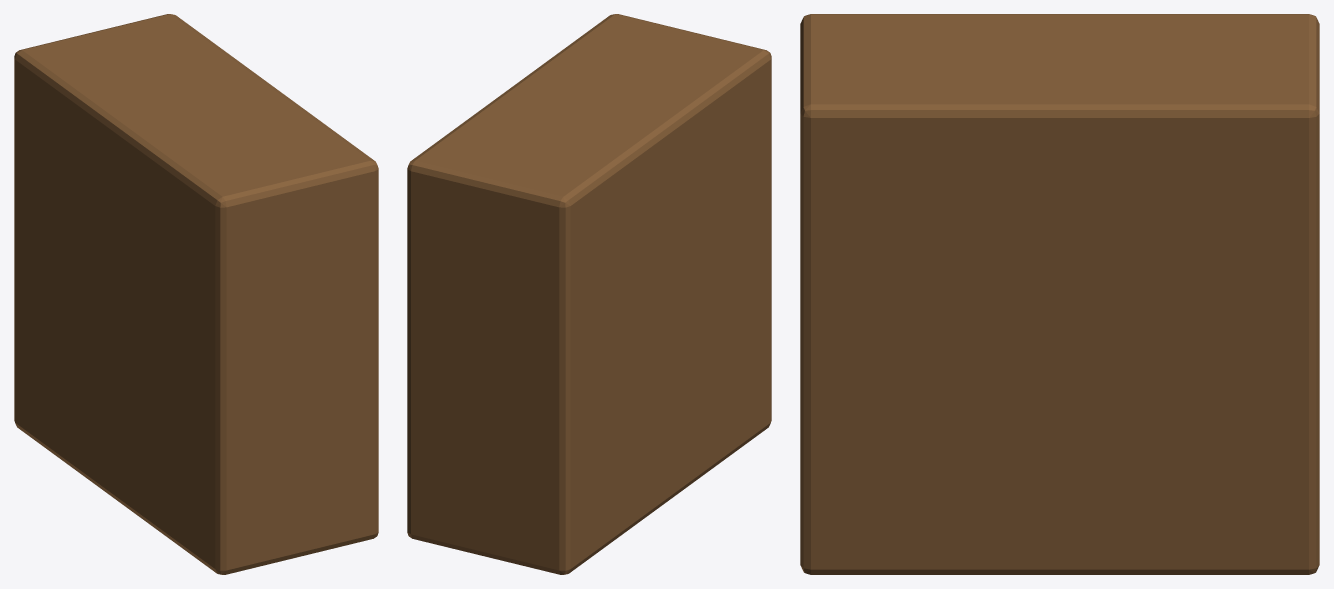
Rendered from cabinet.obj.
3 renders of one model, left to right at view 1: azimuth 30°, elevation 25°; view 2: azimuth 150°, elevation 25°; view 3: azimuth 270°, elevation 25°, orthographic. The views are drawn at different scales.
Parts seen in each view (by area): view 1: cabinet; view 2: cabinet; view 3: cabinet.
Part boxes in pixels (x1=…): cabinet: x1=14, y1=14, x2=378, y2=574; cabinet: x1=407, y1=14, x2=771, y2=574; cabinet: x1=800, y1=14, x2=1319, y2=574.
Size of the model in its own units: 0.45 by 1 by 1.
